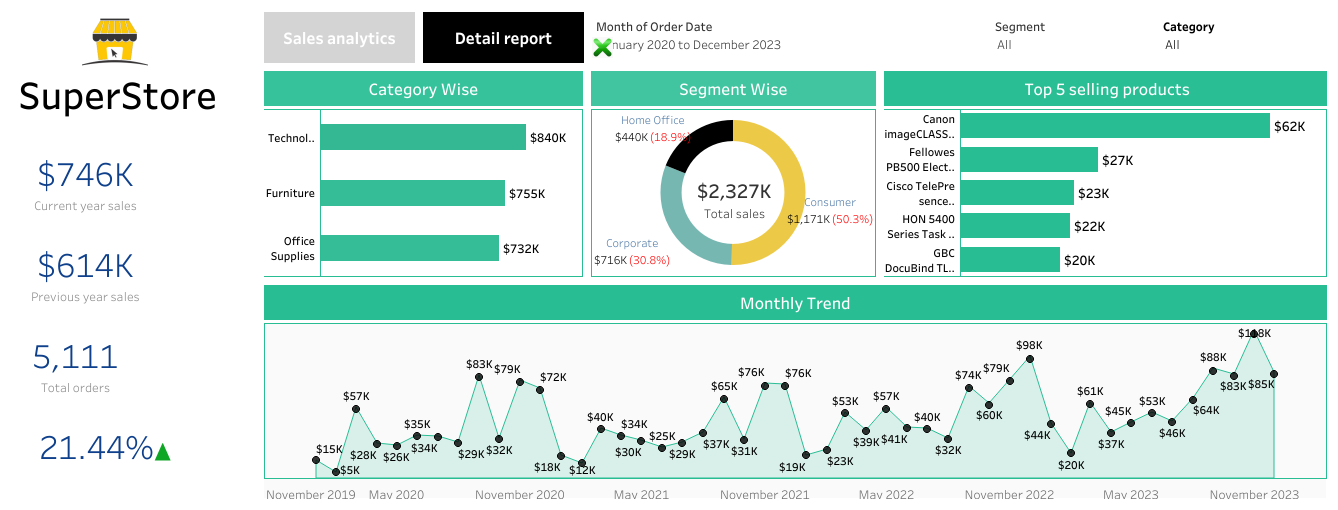

Layout of this report page (visuals, bound fields, positions):
{"tool":"tableau","page":{"name":"dashboard1","canvas":[1000,1000],"units":"permille","ordinal":1},"visuals":[{"type":"dashboard-object","box":[194.8,13.7,118.3,115.9]},{"type":"dashboard-object","box":[313.1,13.7,126,115.9]},{"type":"filter","title":"ques.18","param":"[federated.18psbtm01iwq4h1fszpz61q7nyze].[tmn:Order Date:qk]","box":[442.5,20.6,256.2,102.2]},{"type":"filter","title":"ques_18","param":"[federated.18psbtm01iwq4h1fszpz61q7nyze].[none:Segment:nk]","box":[698.7,20.6,145.5,102.2]},{"type":"filter","title":"ques18","param":"[federated.18psbtm01iwq4h1fszpz61q7nyze].[none:Category:nk]","box":[844.1,20.6,145.5,102.2]},{"type":"image","param":"Image/superstore logo.png","box":[61,32.5,72,97.6]},{"type":"dashboard-object","box":[439.7,71.9,20.1,41.1]},{"type":"text","box":[11.8,101,204,164.4]},{"type":"worksheet","title":"ques18","mark":"Automatic","rows":["Category"],"cols":["Sales"],"box":[194.8,129.6,244,421.2]},{"type":"worksheet","title":"ques_18","mark":"Pie","rows":["Calculation_1513490993795538961","Calculation_1513490993795538961"],"box":[438.7,129.6,253.7,421.2]},{"type":"worksheet","title":"ques,18","mark":"Automatic","rows":["Product Name"],"cols":["Sales"],"box":[692.4,129.6,300.7,421.2]},{"type":"worksheet","title":"currentyear","mark":"Automatic","box":[16.4,256.9,158.4,178.1]},{"type":"worksheet","title":"prevyear","mark":"Automatic","box":[16.4,434.9,158.4,178.1]},{"type":"worksheet","title":"ques.18","mark":"Area","rows":["Sales","Sales"],"cols":["Order Date"],"box":[194.8,550.8,798.3,435.5]},{"type":"worksheet","title":"total orders","mark":"Automatic","box":[16.4,613,158.4,178.1]},{"type":"worksheet","title":"yoy","mark":"Automatic","box":[16.4,791.1,158.4,176.4]}]}

Visuals, with their boxes on the dashboard's canvas, which has no fixed pixel size, in thousandths of its width and height (x1, y1, x2, y2). These are canvas units, not pixel positions in the 1338x510 screenshot, which may show the page scaled, cropped or inside an application window:
dashboard-object: locate(195, 14, 313, 130)
dashboard-object: locate(313, 14, 439, 130)
"ques.18" filter: locate(442, 21, 699, 123)
"ques_18" filter: locate(699, 21, 844, 123)
"ques18" filter: locate(844, 21, 990, 123)
image: locate(61, 32, 133, 130)
dashboard-object: locate(440, 72, 460, 113)
text: locate(12, 101, 216, 265)
"ques18" worksheet: locate(195, 130, 439, 551)
"ques_18" worksheet (Pie marks): locate(439, 130, 692, 551)
"ques,18" worksheet: locate(692, 130, 993, 551)
"currentyear" worksheet: locate(16, 257, 175, 435)
"prevyear" worksheet: locate(16, 435, 175, 613)
"ques.18" worksheet (Area marks): locate(195, 551, 993, 986)
"total orders" worksheet: locate(16, 613, 175, 791)
"yoy" worksheet: locate(16, 791, 175, 968)
